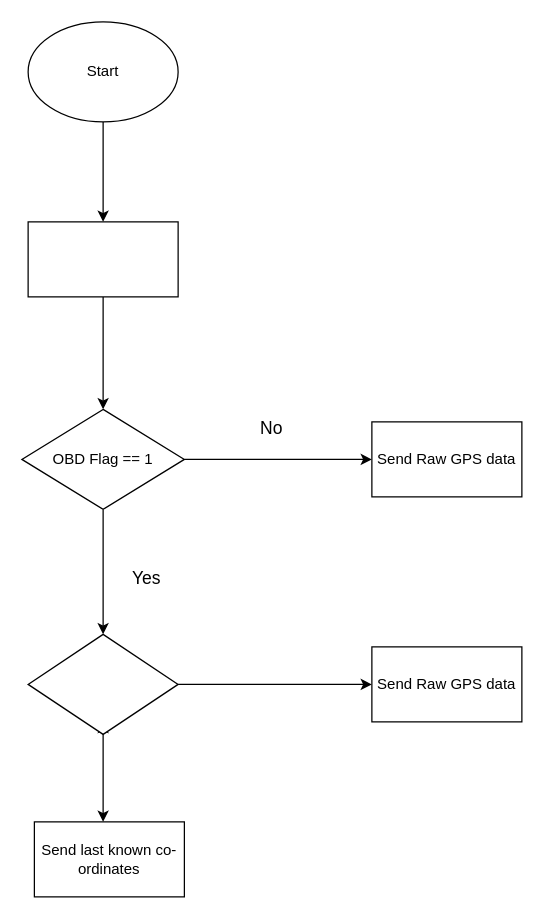
Image size: 544x919. Some labels were removed from this diagram. Each missing label, with the centre of its shape:
Initialization OBD Flag = 1 Vehicle Speed = -1: (102,259)
Vehicle Speed == 0: (102,683)
